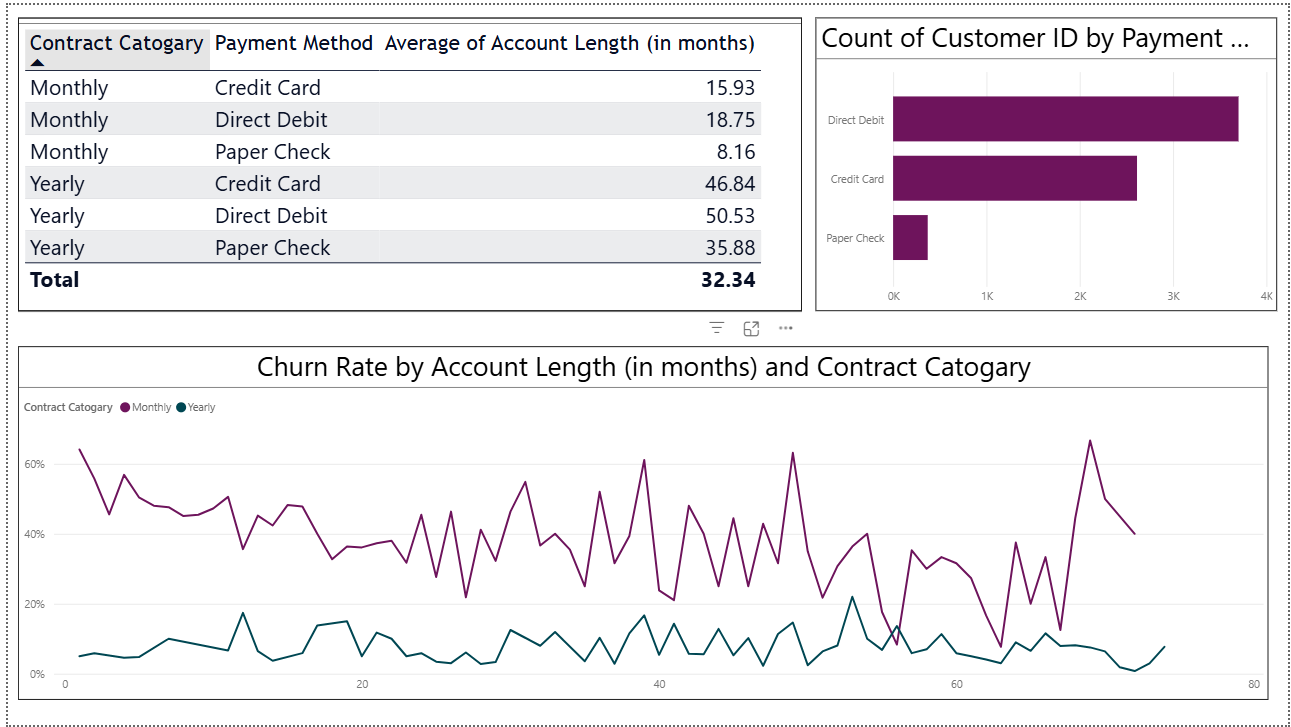

The dashboard page shown, as its layout file describes it:
{"tool":"powerbi","page":{"name":"Contract Type","canvas":[1280,720],"ordinal":10},"visuals":[{"type":"tableEx","fields":{"Values":["Databel - Data.Contract Catogary","Databel - Data.Payment Method","Avg(Databel - Data.Account Length (in months))"]},"box":[10,12.5,783.8,293.8],"z":0},{"type":"lineChart","fields":{"Category":["Databel - Data.Account Length (in months)"],"Y":["Databel - Data.Churn Rate"],"Series":["Databel - Data.Contract Catogary"]},"box":[10,341.2,1250,353.8],"z":1000},{"type":"barChart","fields":{"Category":["Databel - Data.Payment Method"],"Y":["CountNonNull(Databel - Data.Customer ID)"]},"box":[807.5,12.5,461.2,293.8],"z":2000}]}

Visuals, with their boxes in screenshot pixels (x1, y1, x2, y2), scaled from the page's 1280x720 canvas onto the 1291x727 screenshot:
tableEx - Databel - Data.Contract Catogary x Databel - Data.Payment Method: [left=10, top=13, right=801, bottom=309]
lineChart - Databel - Data.Account Length (in months) x Databel - Data.Churn Rate: [left=10, top=345, right=1271, bottom=702]
barChart - Databel - Data.Payment Method x CountNonNull(Databel - Data.Customer ID): [left=814, top=13, right=1280, bottom=309]
